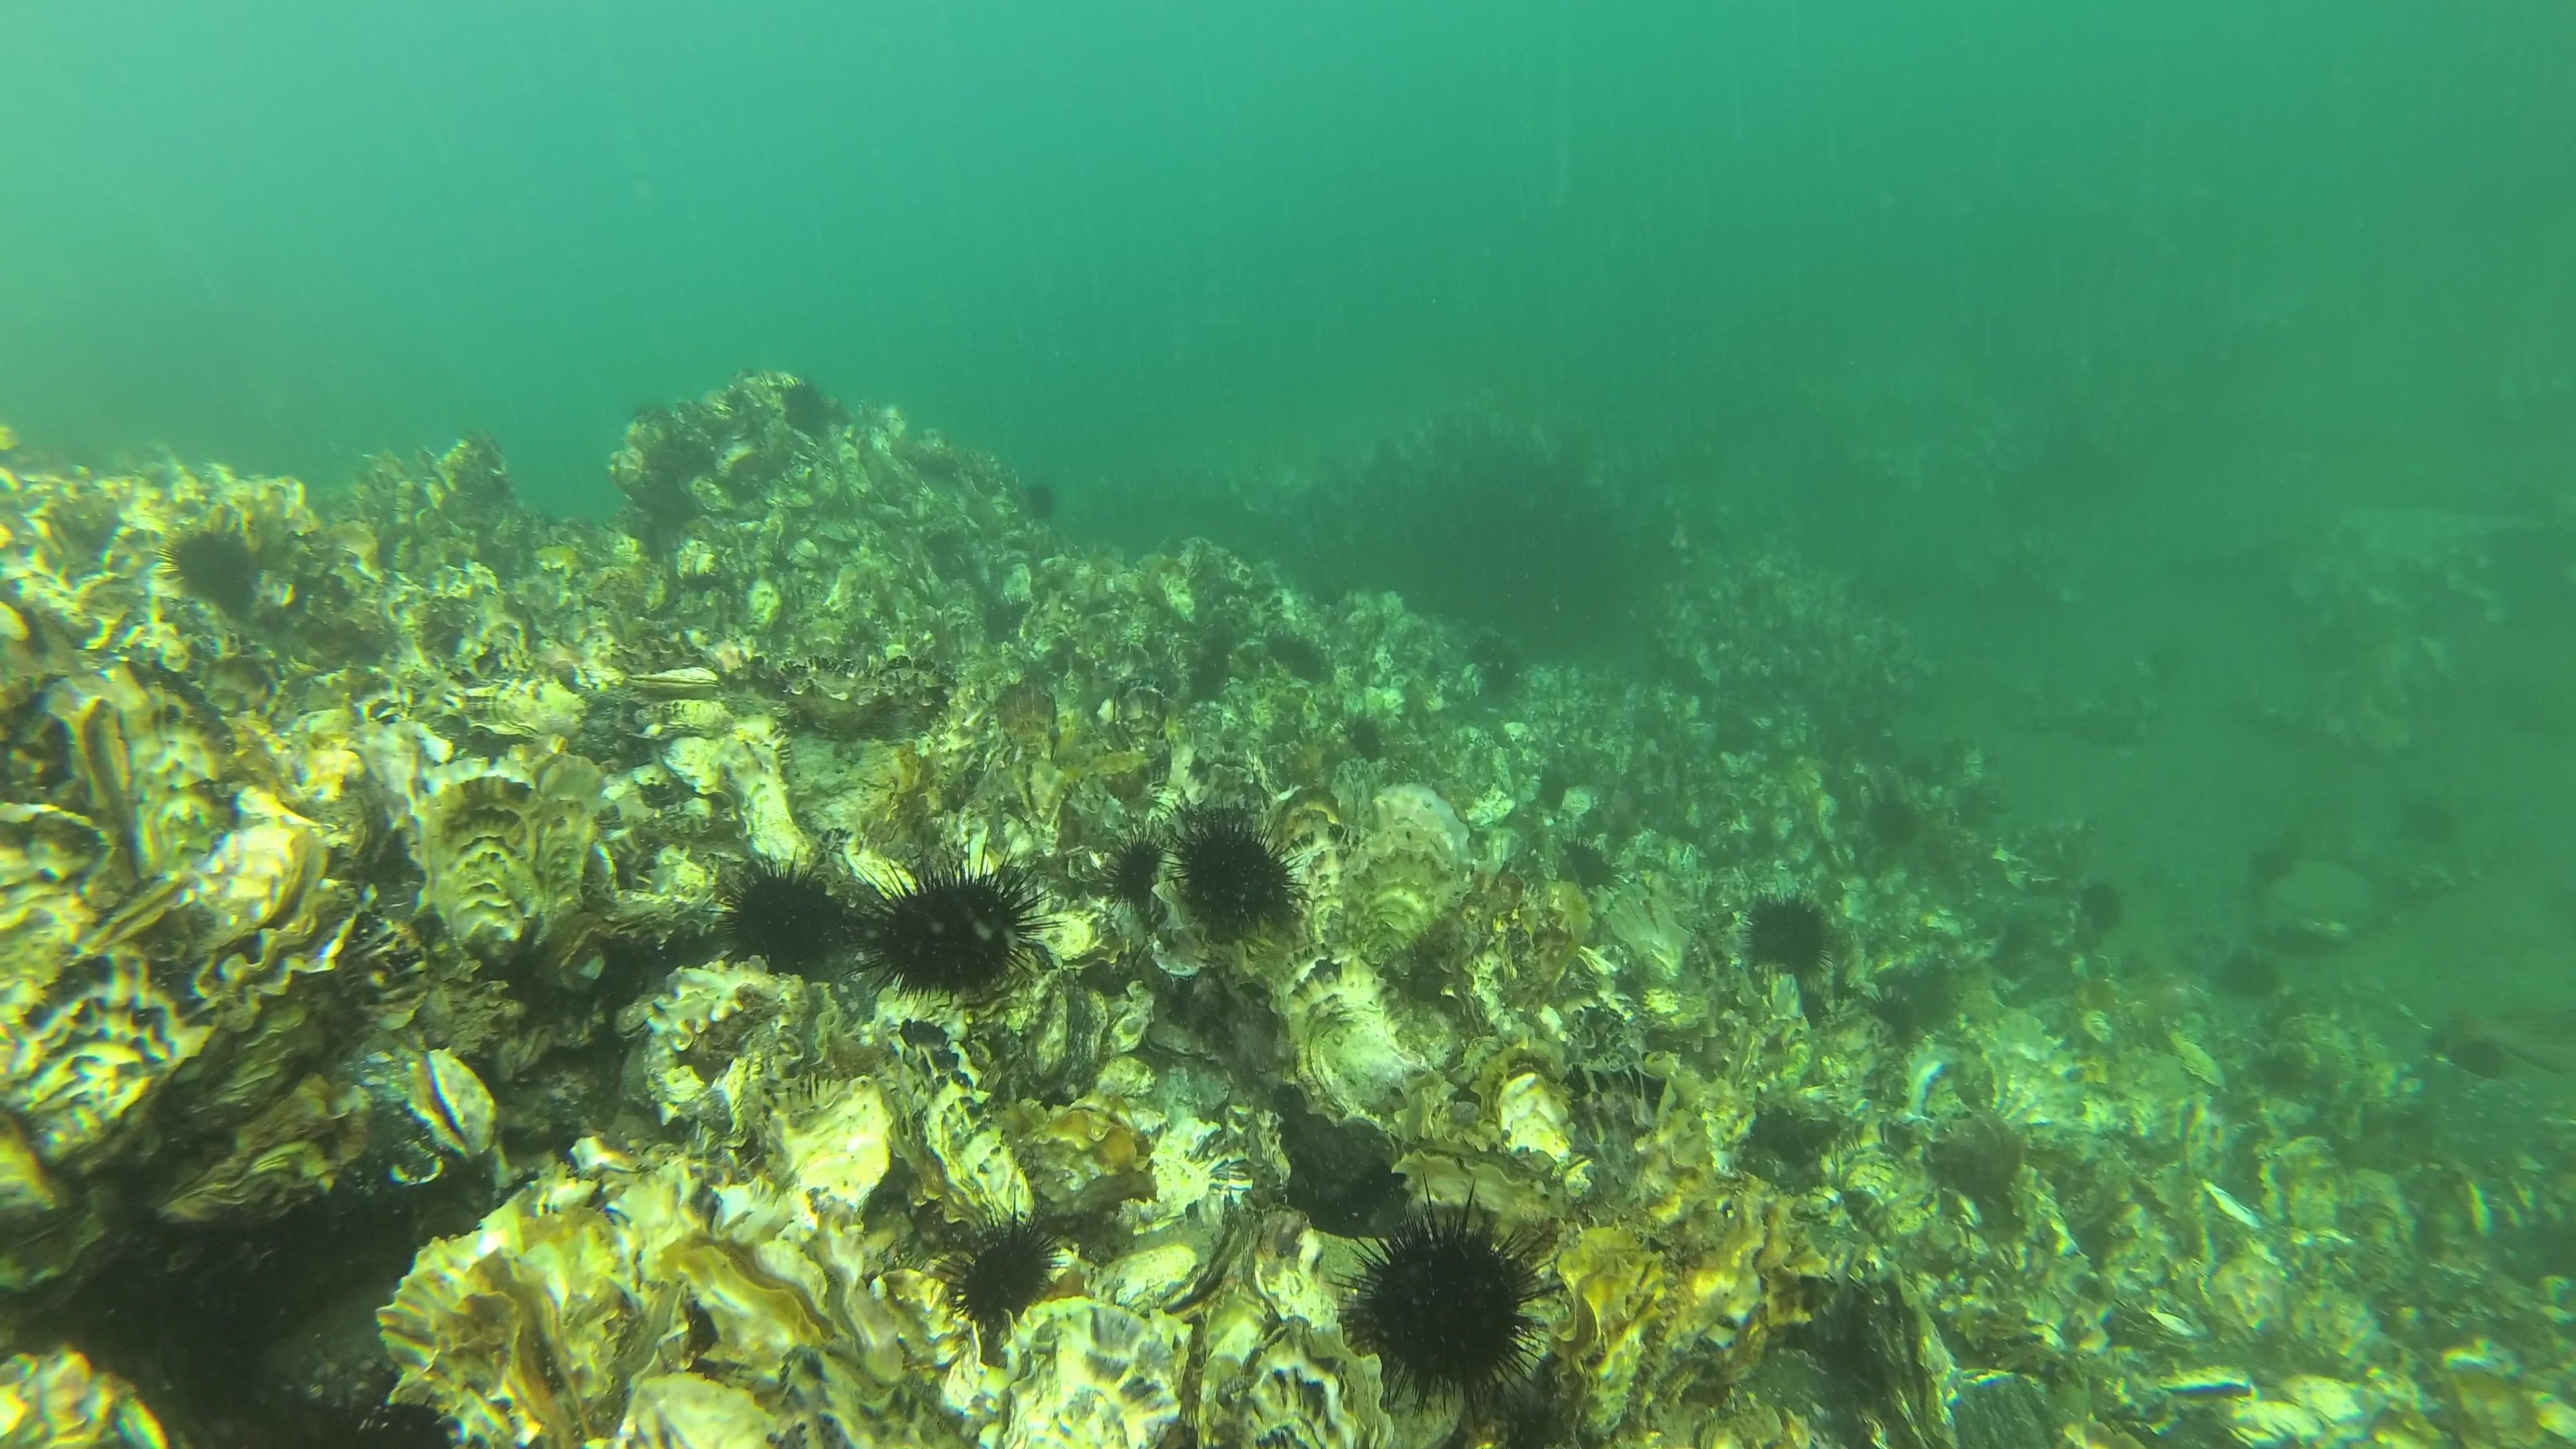echinus: (1330, 1187, 1562, 1412), (851, 833, 1054, 996), (1171, 800, 1316, 952), (713, 851, 856, 980), (938, 1196, 1067, 1329), (154, 513, 267, 610), (1093, 816, 1173, 922), (1743, 895, 1835, 978), (775, 377, 840, 442), (1467, 632, 1525, 699), (1272, 626, 1338, 683), (1555, 840, 1621, 895), (2210, 950, 2277, 1000), (2247, 842, 2300, 902), (2399, 798, 2461, 849), (1348, 704, 1391, 770), (2077, 883, 2127, 934), (1017, 478, 1063, 529)
